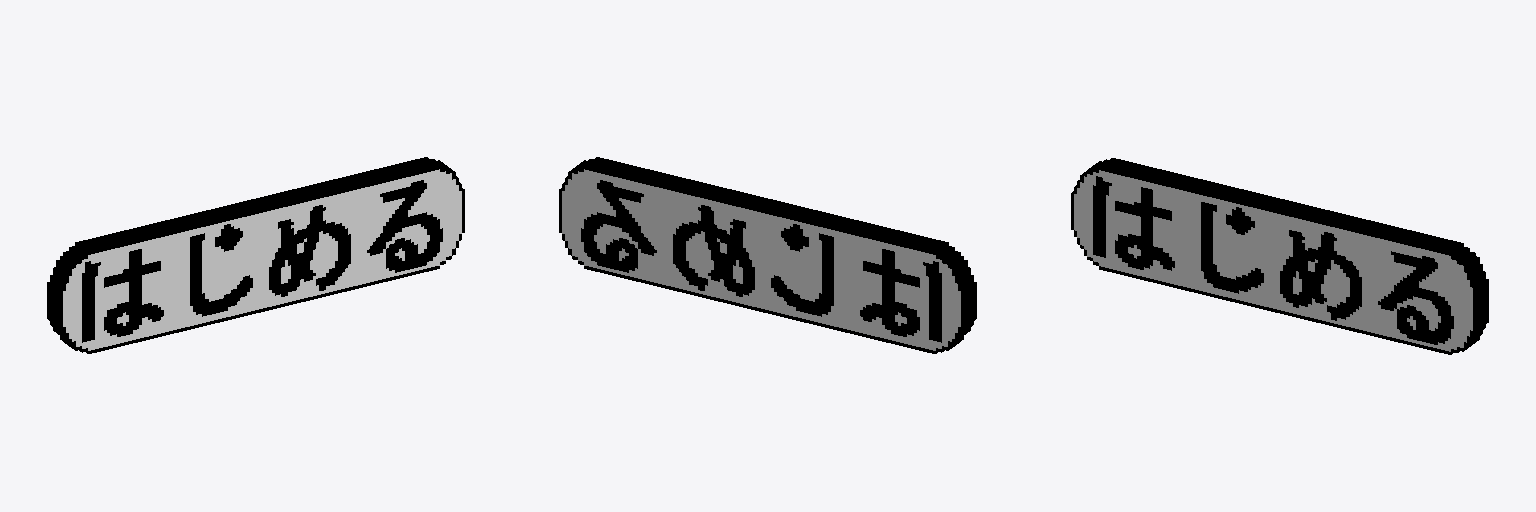
3 renders of one model, left to right at view 1: azimuth 30°, elevation 25°; view 2: azimuth 150°, elevation 25°; view 3: azimuth 330°, elevation 25°, orthographic.
Visible parts, largest first — view 1: object 1; view 2: object 1; view 3: object 1.
Boxes of the visible parts, box(x1,y1,x2,y2) form: object 1: box(47, 157, 464, 353); object 1: box(559, 157, 976, 353); object 1: box(1071, 158, 1488, 354).
Bounding box in the file's own units: 12.8 × 3.1 × 0.7.
Materials: 1 (1 with a texture image).